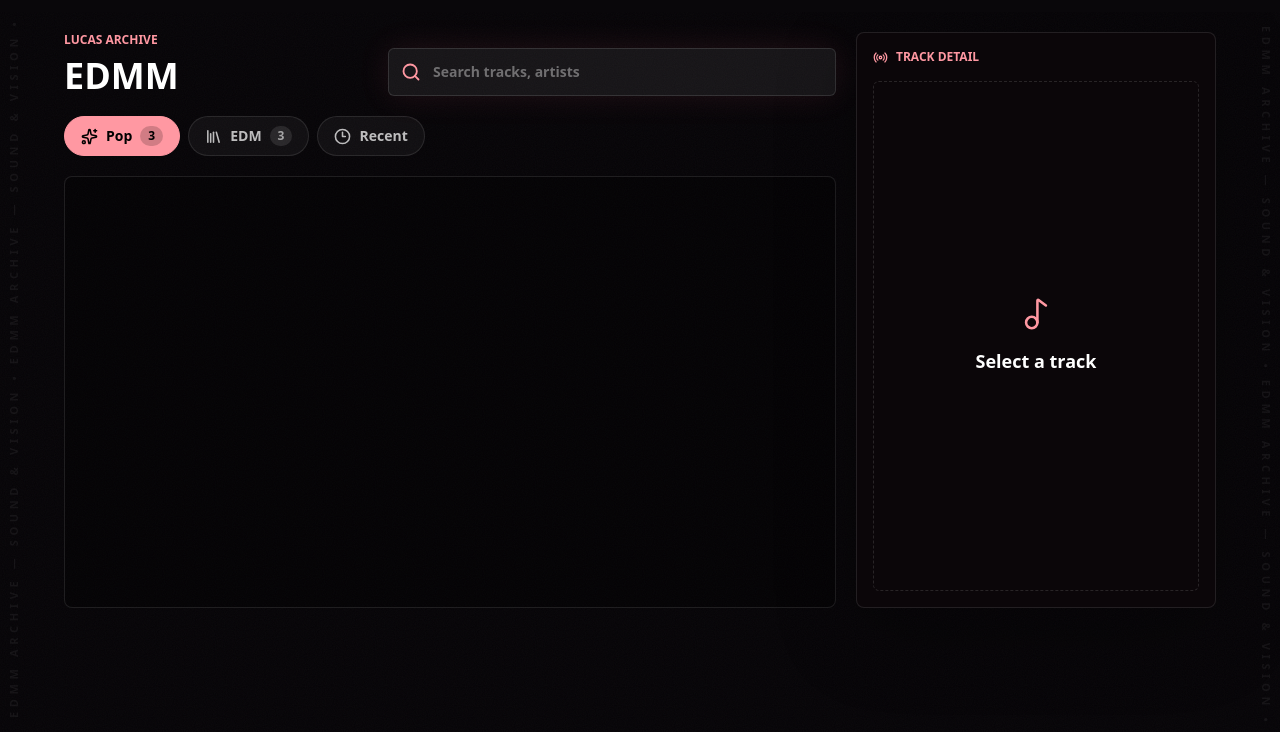
Scenario: MusicShell › clears selected details when the selected recent track leaves the visible queue
Click the button "Recent" at {"x": 371, "y": 136}, box [318,116,425,156]
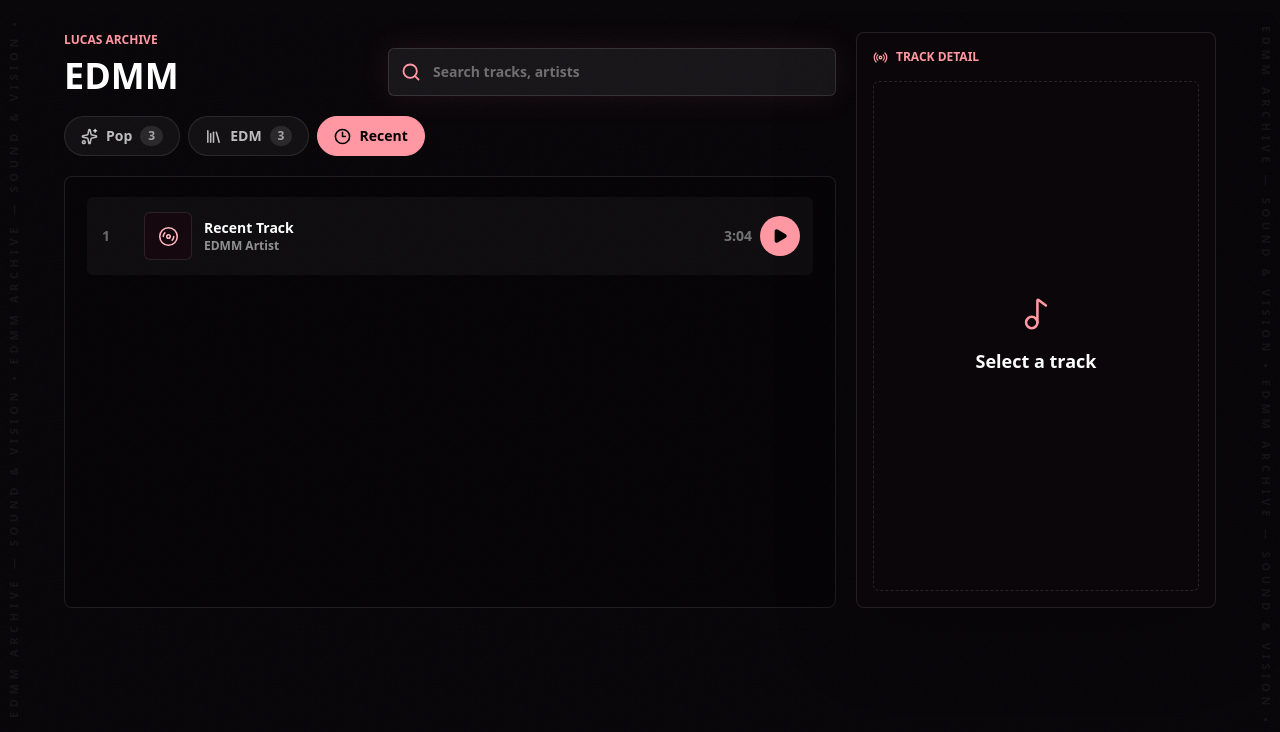
Click the button with aria-label "Select Recent Track" at {"x": 168, "y": 236}, box [96,206,704,266]
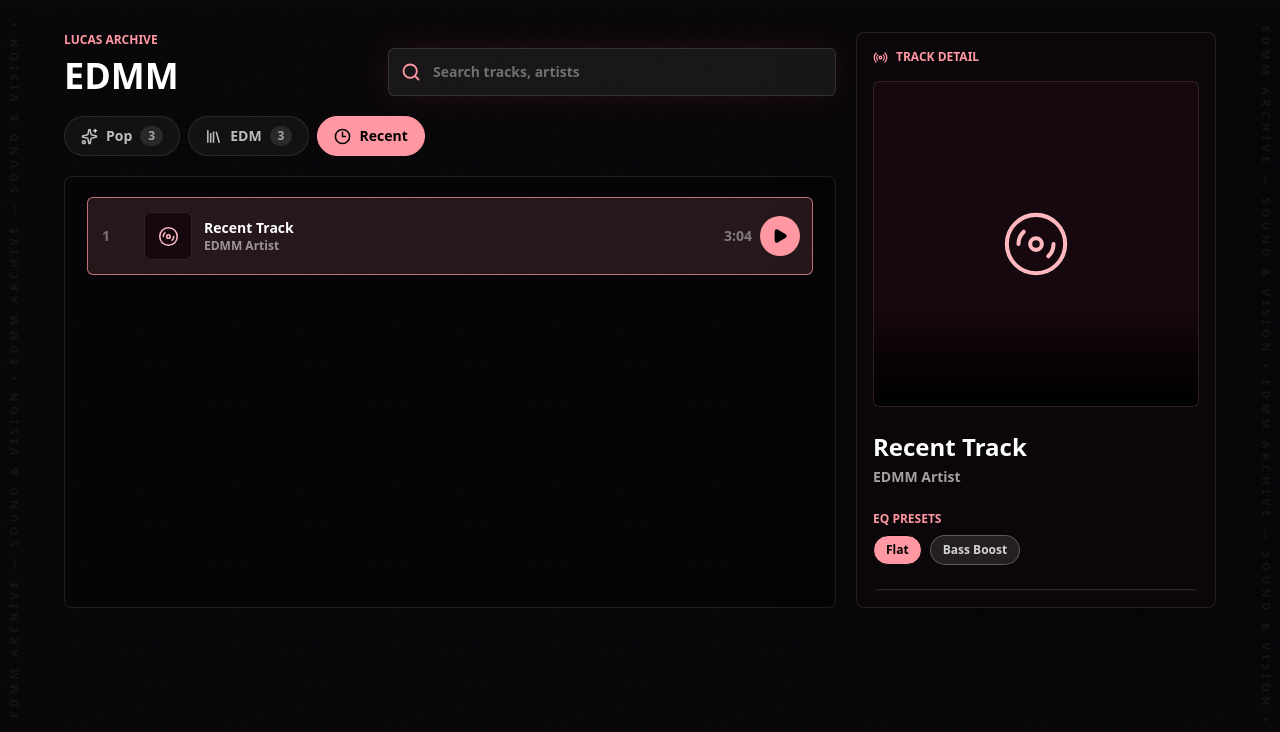
Expected: the heading with test id "track-detail-title" reads "Recent Track", [873,430,1027,463]
Click the button "Pop 3" at {"x": 122, "y": 136}, box [64,116,180,156]
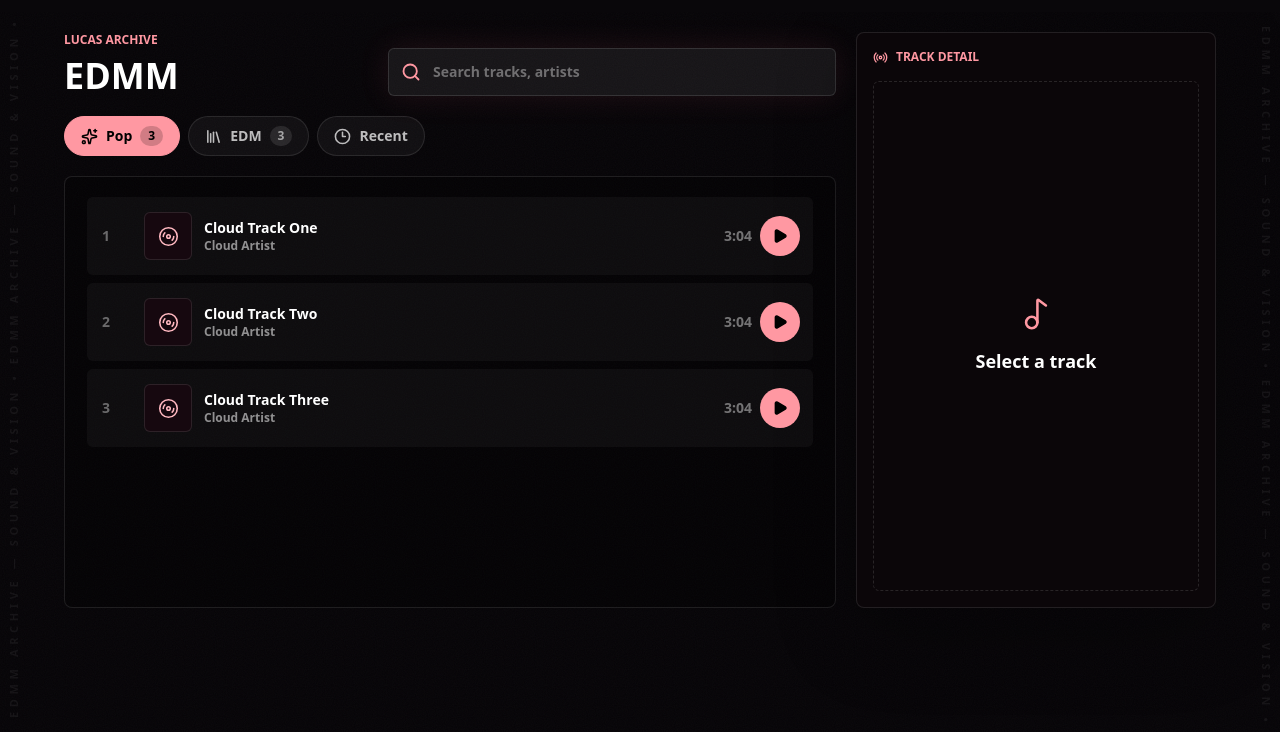
Expected: the heading with test id "track-detail-title" is gone
Expected: the button "Recent Track" is gone
Expected: the heading "Select a track" is shown, [976,349,1096,373]
